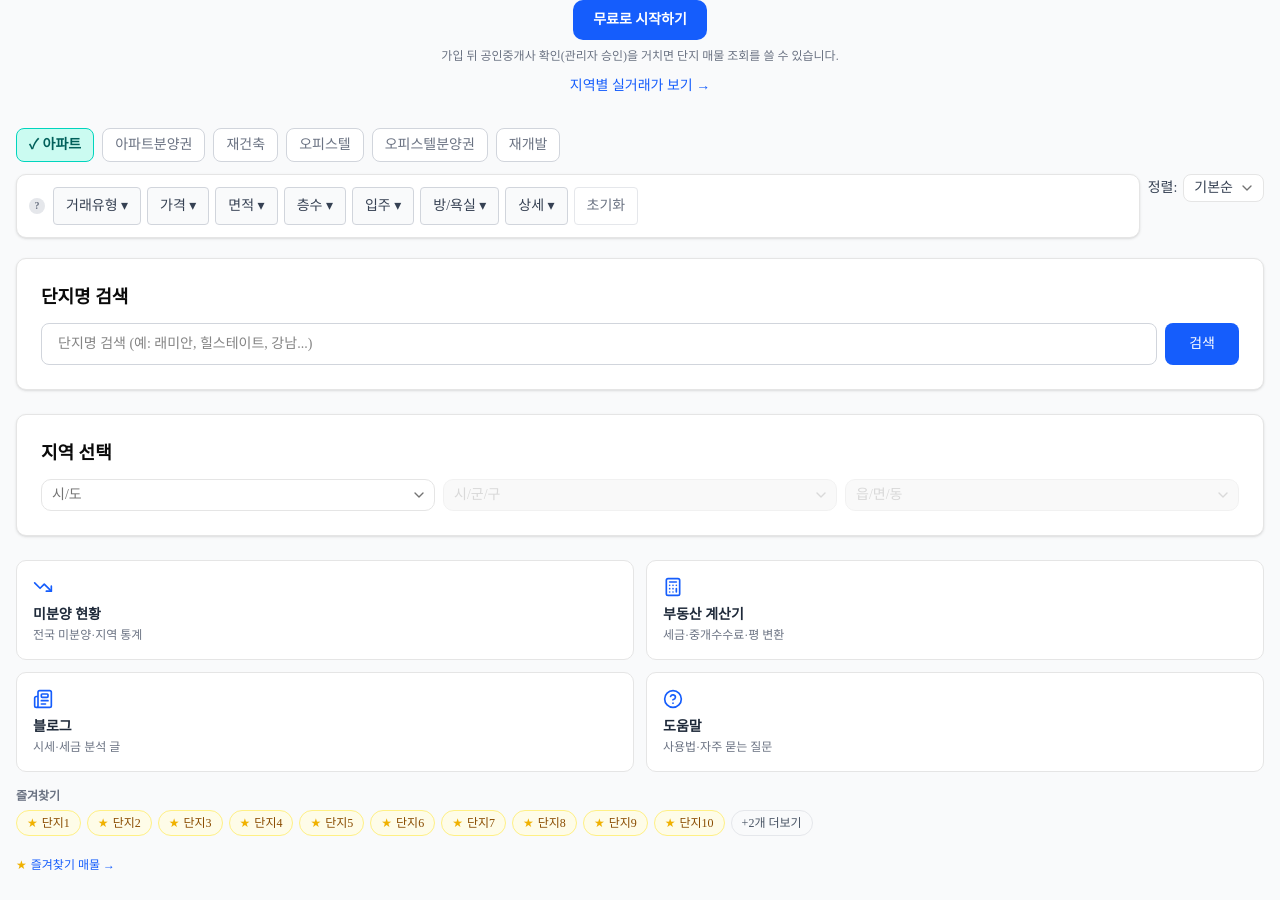
Test: 홈 — 즐겨찾기 칩 10개 제한 + 더보기 › '+N개 더보기' 클릭 → 전체 노출 + 버튼 사라짐
(page scrolled)
Click the button "+2개 더보기" at point(772, 823), box [731,810,813,836]
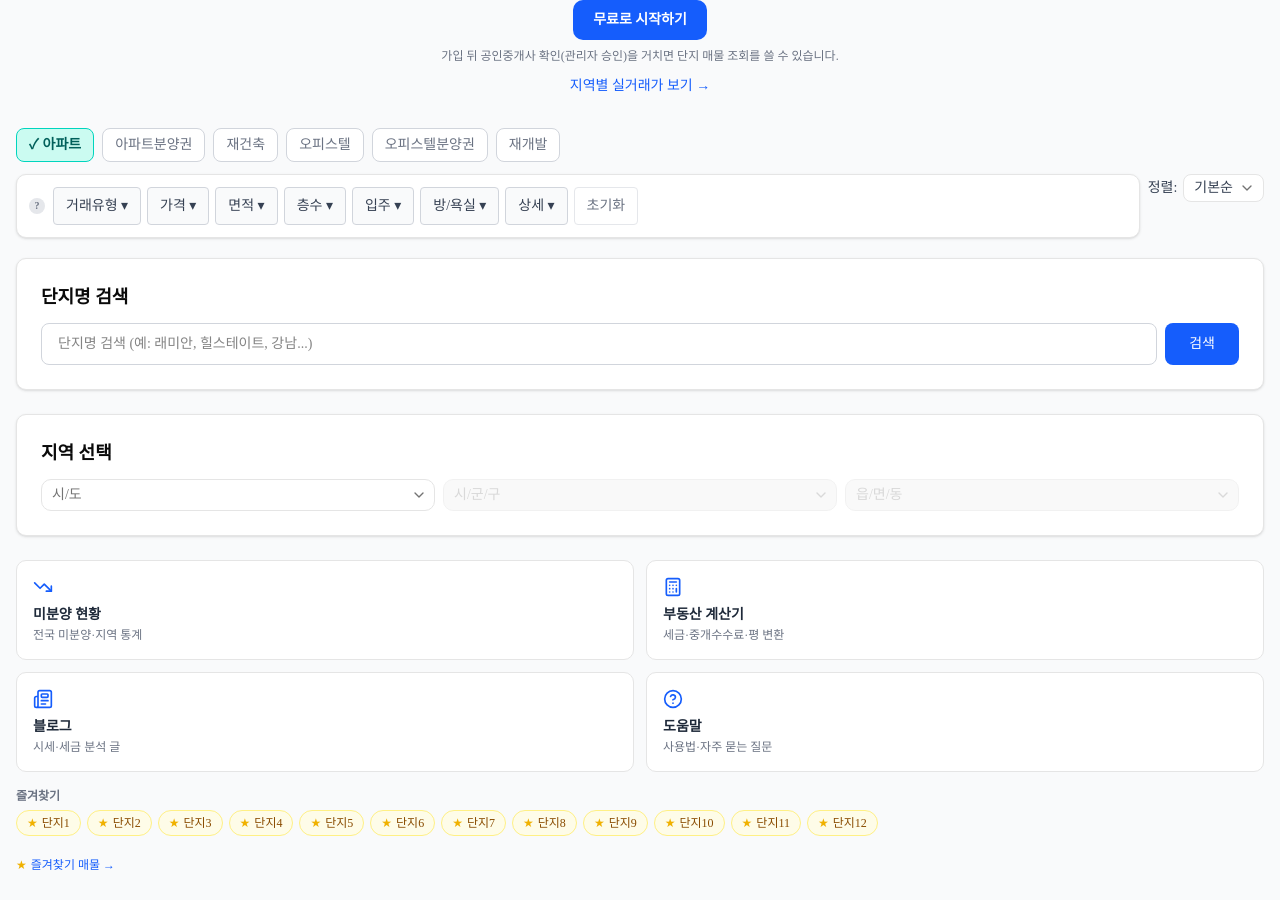
Result: the link "★ 단지12" is shown at [807,810,878,836]
Result: the button "+2개 더보기" is gone
